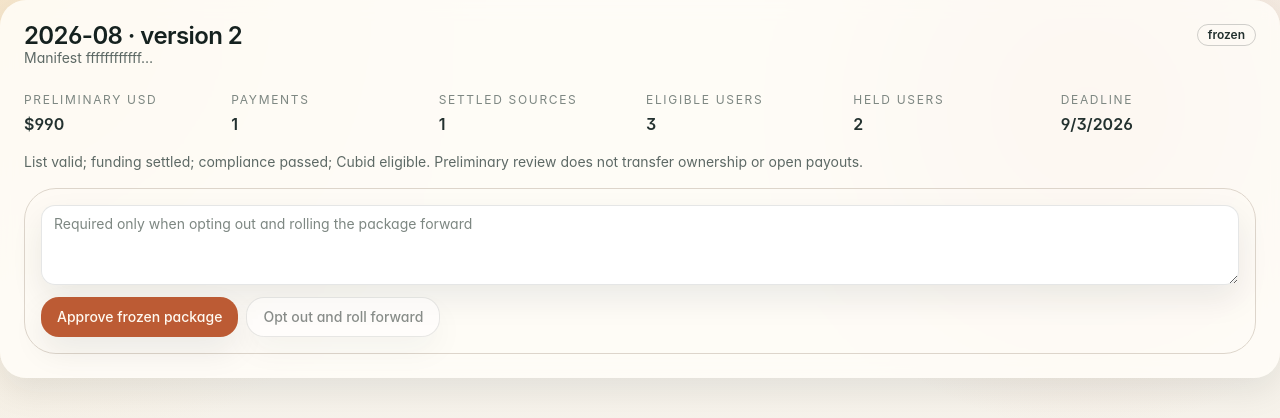
Test: founder epoch package review › requires a reason before opt out
The image size is (1280, 418).
expect the button "Opt out and roll forward" is disabled: met, box top-left (246, 297), bottom-right (440, 337)
Replace the text in the text box named "Opt-out reason" with "Carry forward": (640, 245) top-left (41, 205), bottom-right (1239, 285)
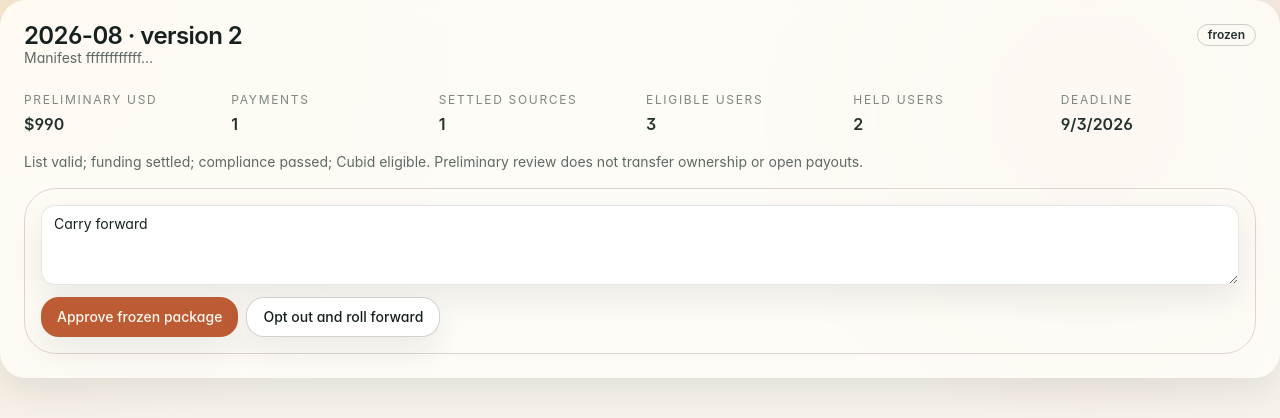
expect the button "Opt out and roll forward" is enabled: met, box top-left (246, 297), bottom-right (440, 337)
